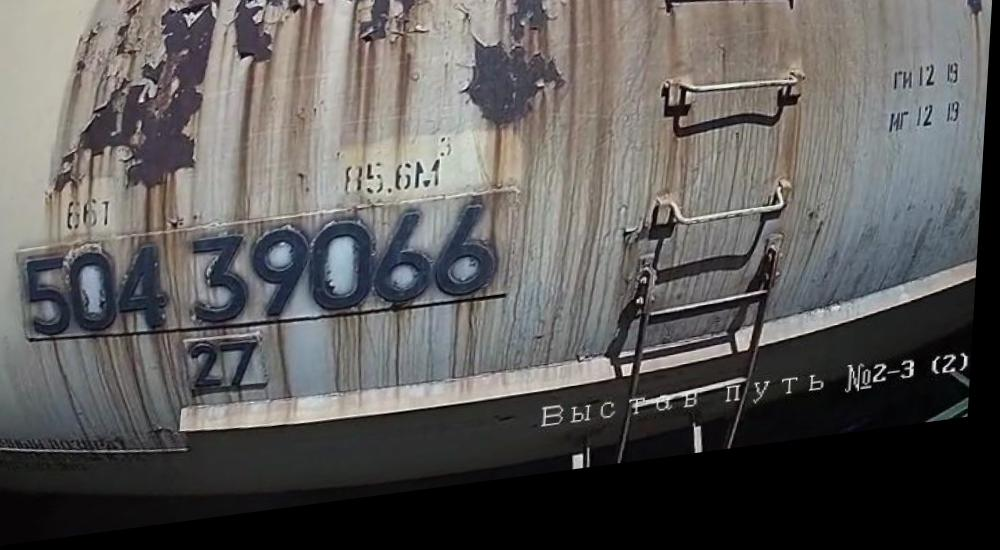Wagon-number: (16, 199, 519, 361)
